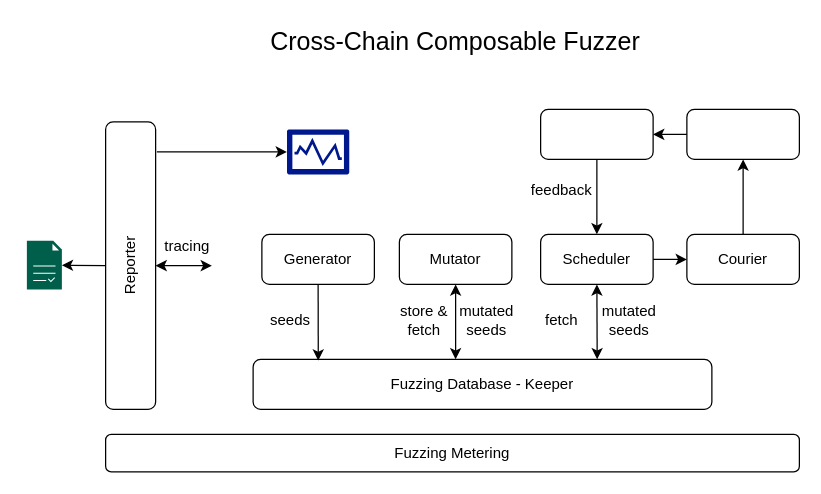
The diagram is 821 pixels wide and 494 high, and some of its shapes have lost their labels. The shapes that lost their labels are listed below. From the top down, each one's centre as x and y in pixels, then its label:
At [317,151]: "Fuzzing Monitor".
At [596,133]: "Collector".
At [742,133]: "Cross-Chain Simulator".
At [43,264]: "Report".
